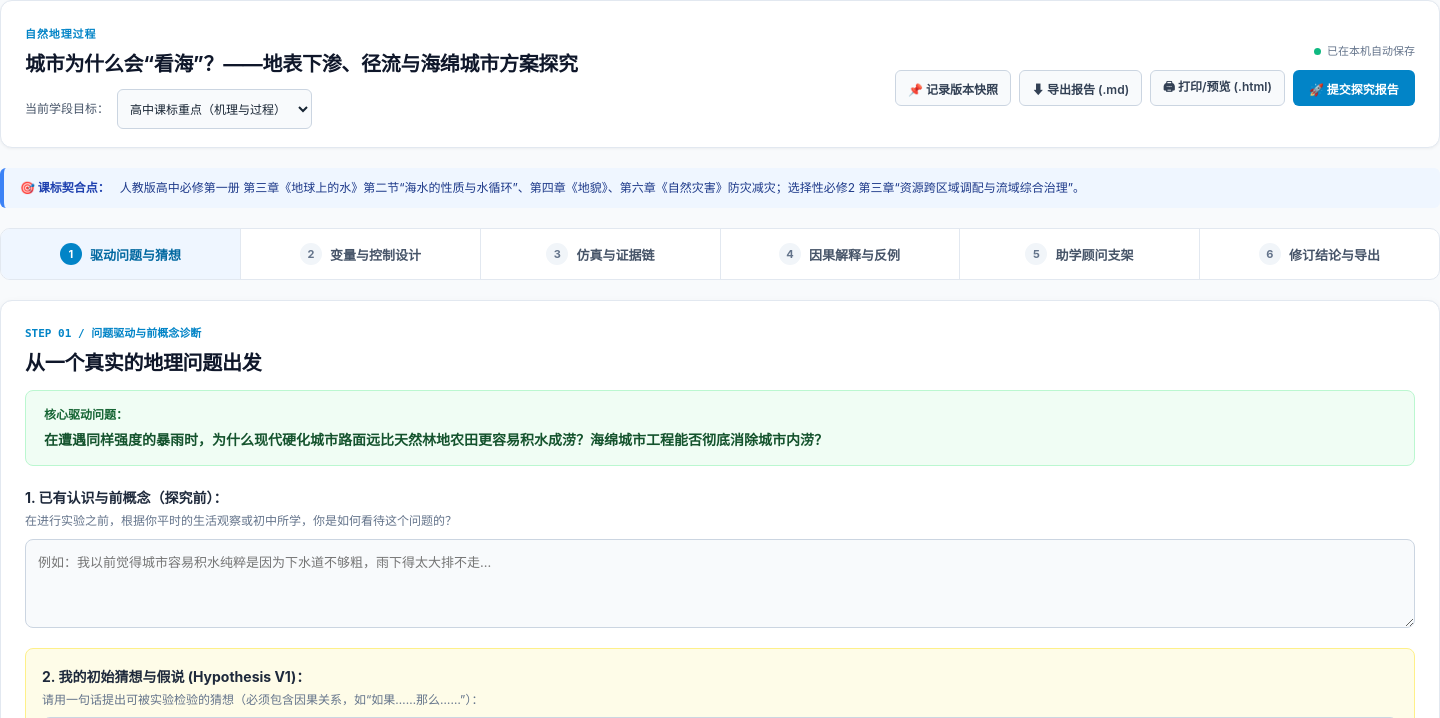
it: StudentWorkbench Component › navigates through inquiry steps and displays step panels
# Navigate to Step 2: Variables
Step 1. Click the button with class "step-item" showing "2 变量与控制设计" → (361, 254), box [241, 229, 481, 279]
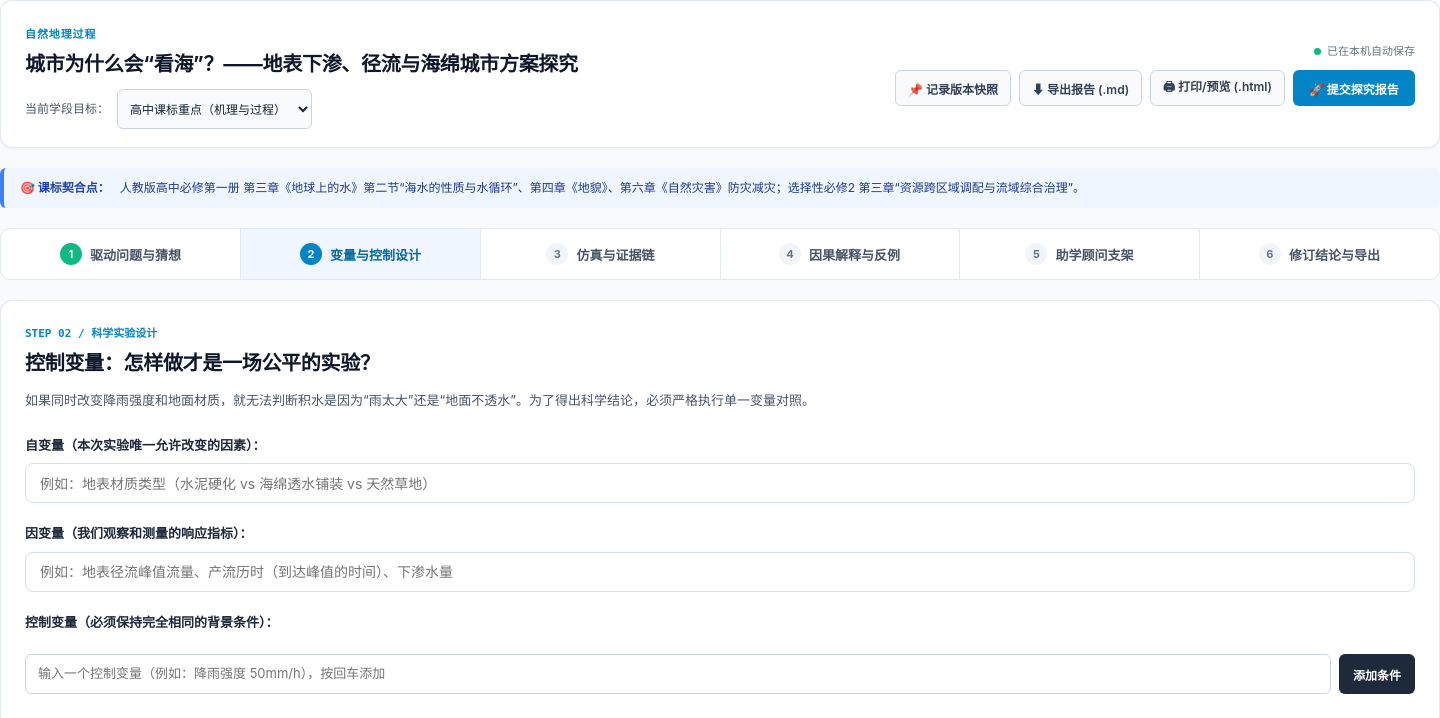
Check: the text "控制变量：怎样做才是一场公平的实验？" is shown, box [25, 351, 380, 375]
# Navigate to Step 3: Simulation & Evidence
Step 2. Click the button with class "step-item" showing "3 仿真与证据链" → (601, 254), box [481, 229, 720, 279]
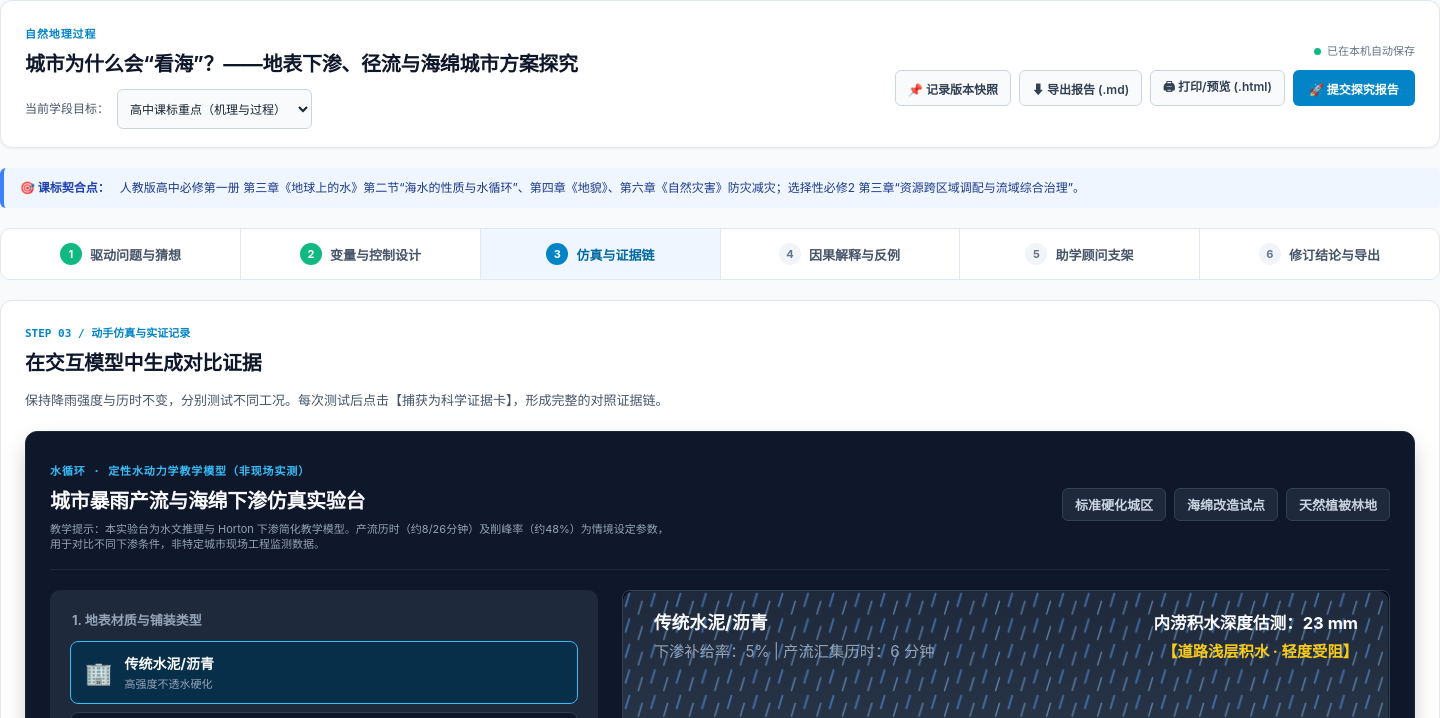
Check: the text "在交互模型中生成对比证据" is shown, box [25, 351, 261, 375]
